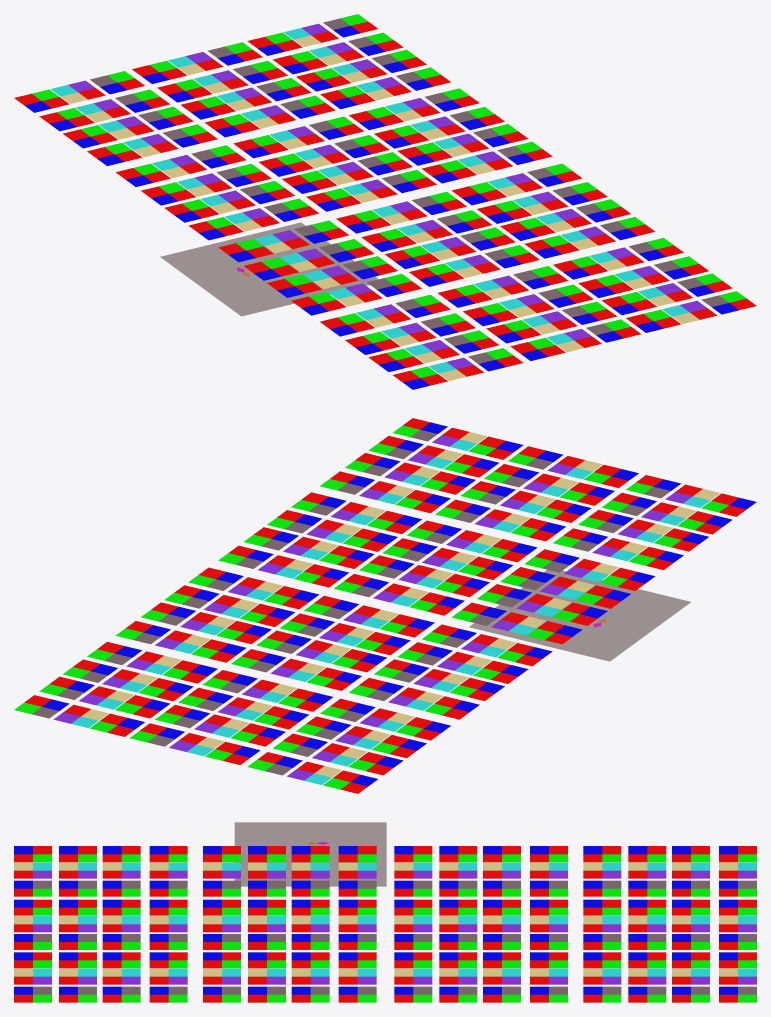
3 views of the same model, one above another, from view 1: azimuth 30°, elevation 25°; view 2: azimuth 150°, elevation 25°; view 3: azimuth 270°, elevation 25° (orthographic). The views are drawn at different scales.
Visible parts, largest first — view 1: plane-col, trivial-col; view 2: plane-col, trivial-col; view 3: plane-col, trivial-col.
Part boxes in pixels (x1=…): plane-col: x1=14, y1=14, x2=756, y2=389; trivial-col: x1=160, y1=222, x2=378, y2=316; plane-col: x1=14, y1=418, x2=756, y2=793; trivial-col: x1=469, y1=569, x2=690, y2=661; plane-col: x1=14, y1=846, x2=756, y2=1002; trivial-col: x1=234, y1=822, x2=386, y2=886.
Size of the model in its own units: 225 by 0.1954 by 391.
